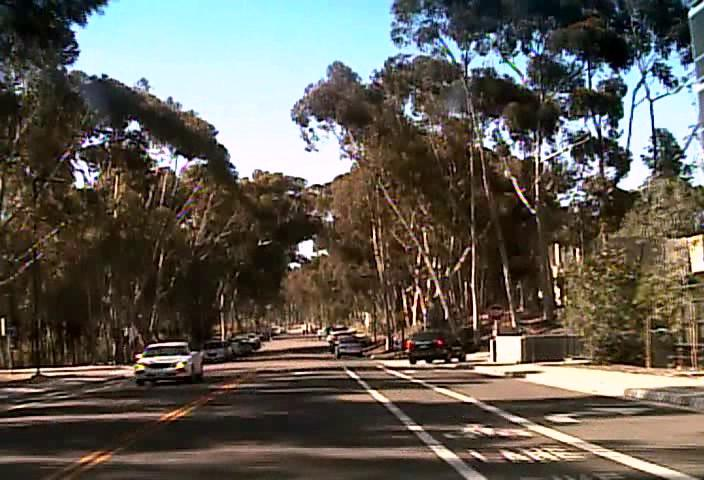stop: (487, 303, 504, 321)
